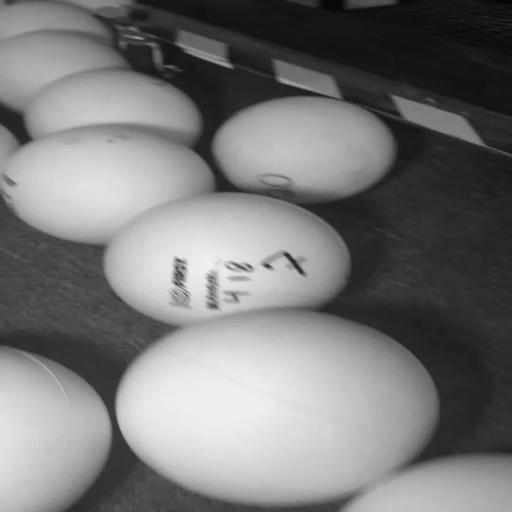fuel: (117, 311, 441, 503), (102, 191, 351, 331), (7, 127, 212, 251), (208, 94, 398, 204), (0, 346, 115, 512), (22, 68, 201, 154), (0, 32, 136, 113), (341, 454, 512, 512), (0, 1, 115, 55), (0, 122, 19, 180)
